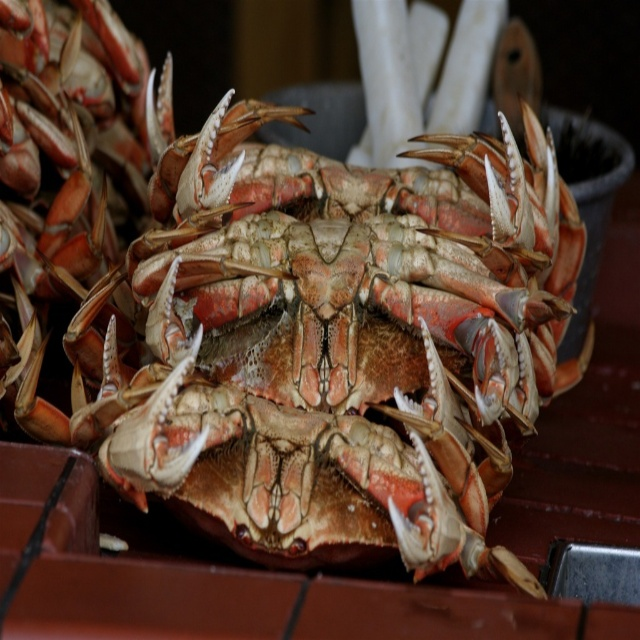Crab: (0, 0, 597, 601)
